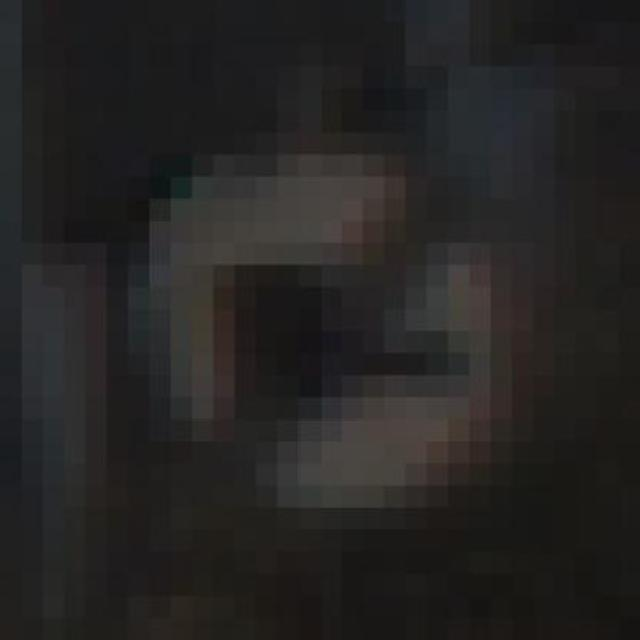Overtaking by trucks is prohibited: (85, 89, 533, 552)
